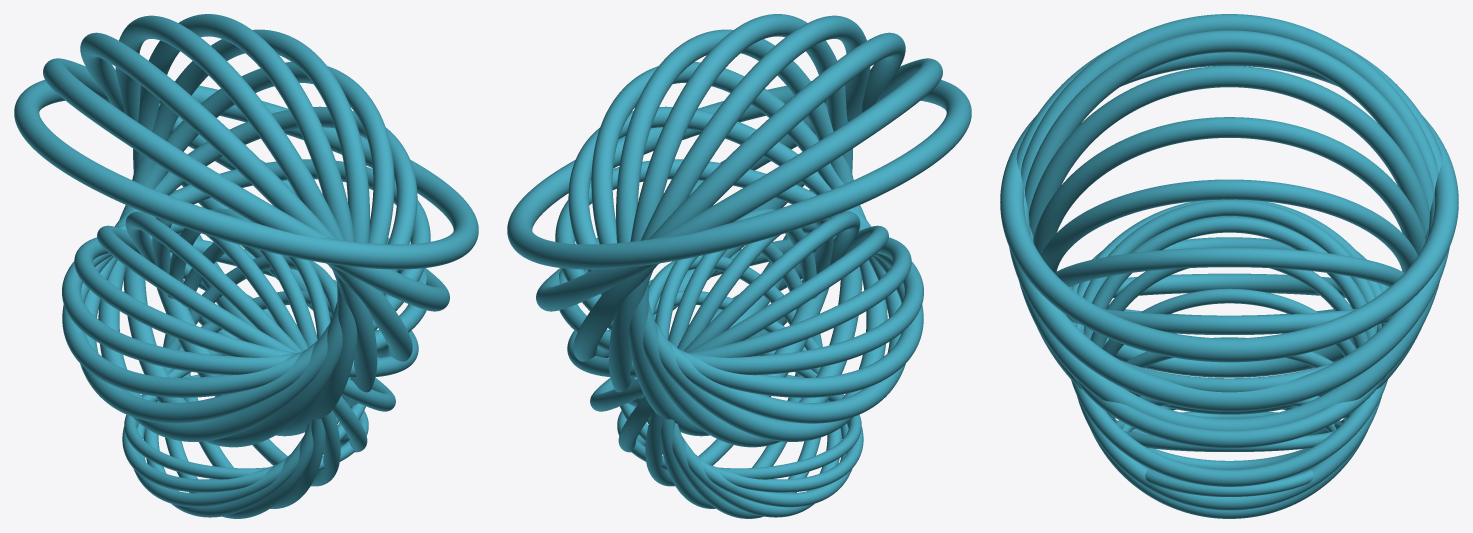
Rendered from milione.glb.
The picture shows the model from 3 angles, left to right: view 1: azimuth 30°, elevation 25°; view 2: azimuth 150°, elevation 25°; view 3: azimuth 270°, elevation 25°; orthographic projection. The views are drawn at different scales.
Bounding box in the file's own units: 2.18 × 2.51 × 2.28.
